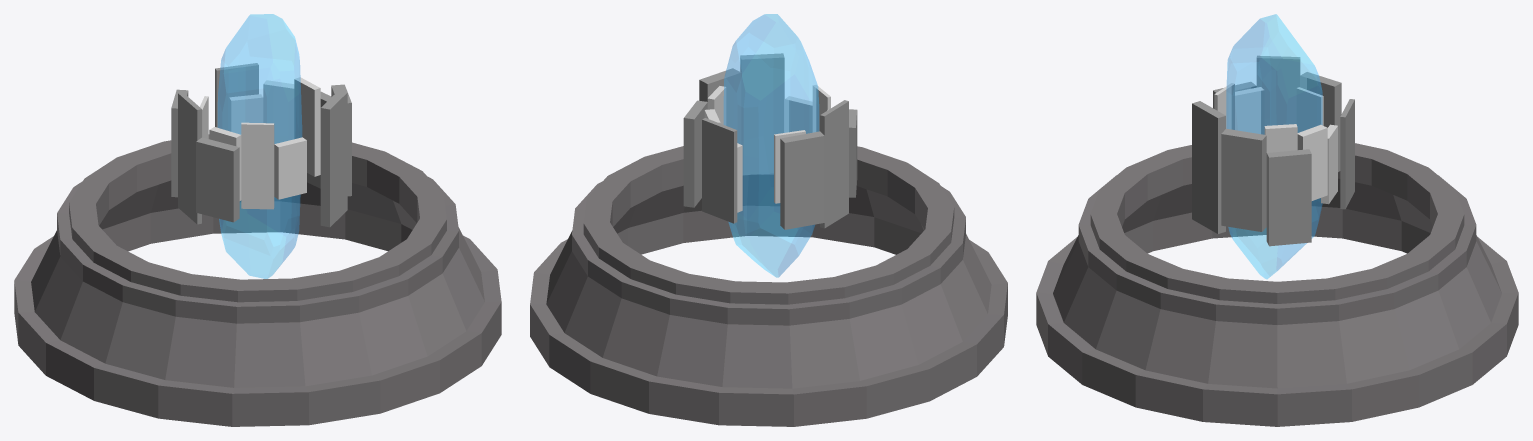
File: crystal_stand.glb
3 views of the same model, side by side, from view 1: azimuth 30°, elevation 25°; view 2: azimuth 150°, elevation 25°; view 3: azimuth 270°, elevation 25° (orthographic).
Visible parts, largest first — view 1: crystarBase; view 2: crystarBase; view 3: crystarBase.
Boxes of the visible parts, <box> form: crystarBase: <box>14,14,501,426</box>; crystarBase: <box>530,14,1007,426</box>; crystarBase: <box>1036,14,1518,426</box>.
Bounding box in the file's own units: 10.03 × 7.03 × 10.03.
